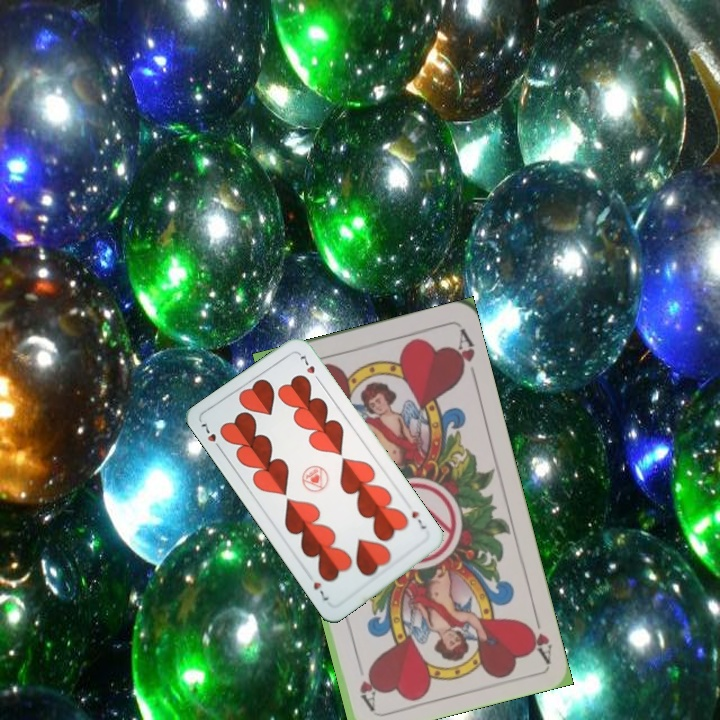H7: (197, 419, 225, 454), (408, 507, 429, 532)
HA: (521, 606, 555, 664)
